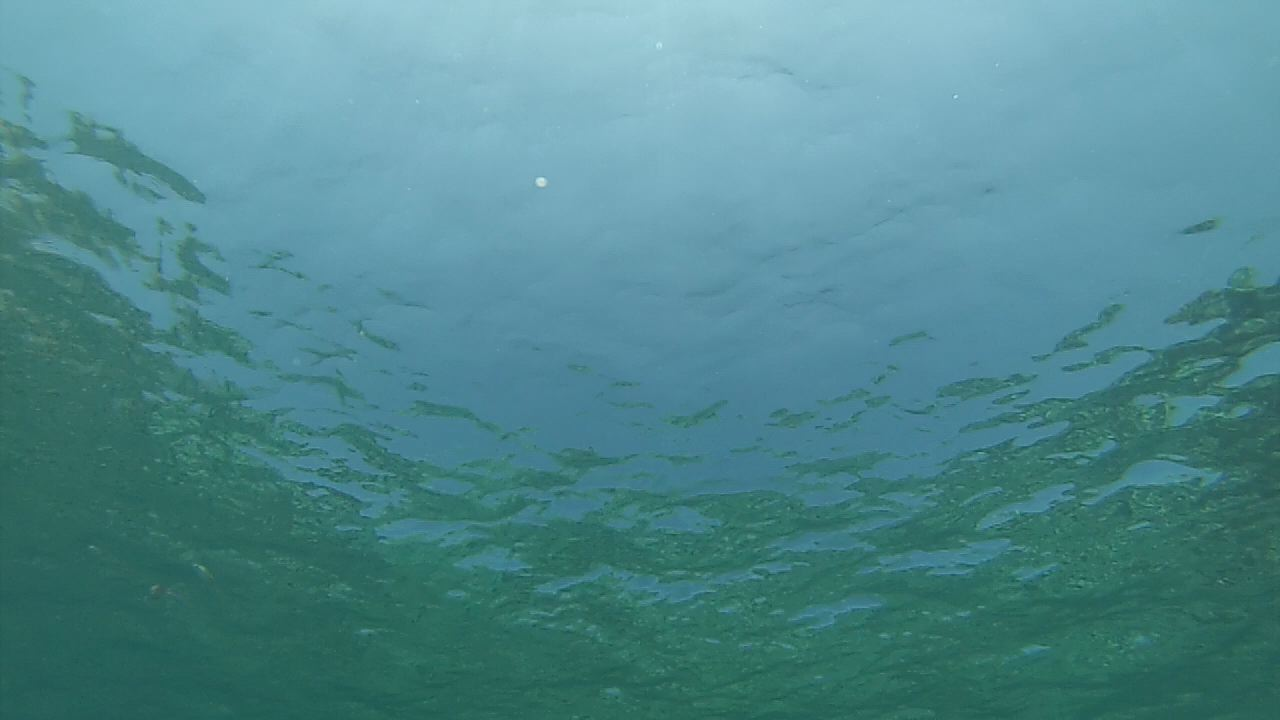pelagia: (144, 579, 188, 611)
